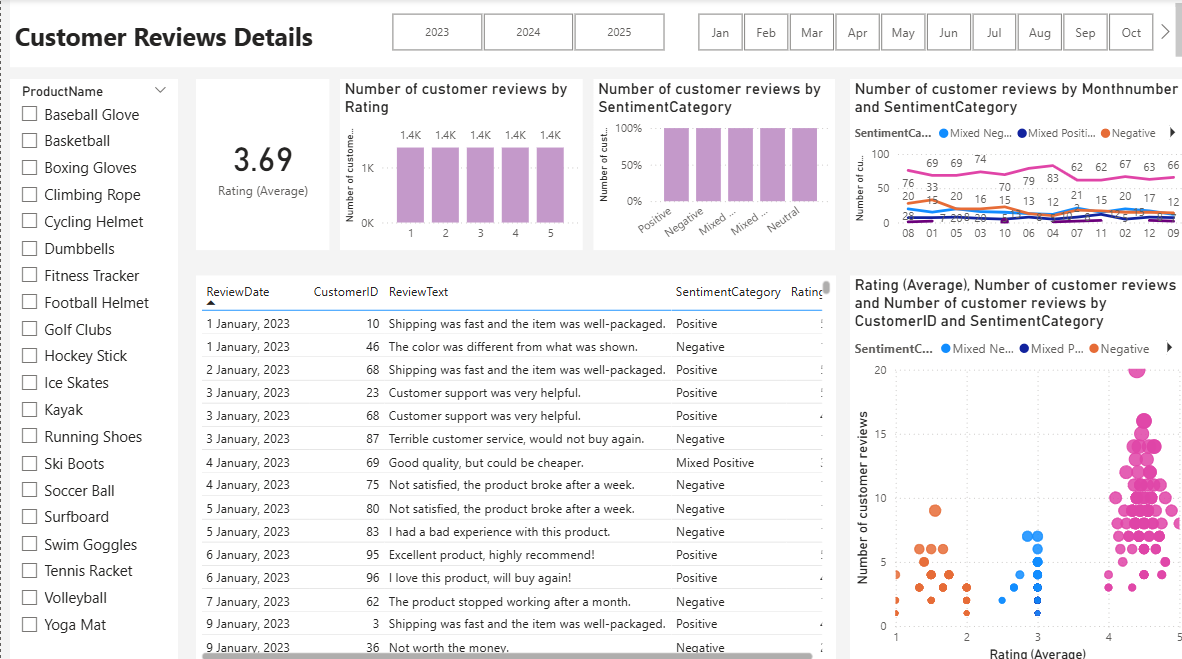

This screenshot's page, from the dashboard's own definition file:
{"tool":"powerbi","page":{"name":"Customer Reviews Details","canvas":[1280,720],"ordinal":3},"visuals":[{"type":"textbox","box":[9.7,0,1271.1,74.5],"z":0},{"type":"slicer","fields":{"Values":["dim_products.ProductName"]},"box":[9.7,87.4,181.4,633.1],"z":1000},{"type":"slicer","fields":{"Values":["Calendar.Year"]},"box":[396.7,9.7,343.3,53.4],"z":2000},{"type":"slicer","fields":{"Values":["Calendar.MonthNameShort"]},"box":[727,9.7,540.8,53.4],"z":3000},{"type":"card","fields":{"Values":["_Calculations.Rating (Average)"]},"box":[210.5,87.4,144.1,184.6],"z":4000},{"type":"columnChart","fields":{"Category":["fact_customer_reviews.Rating"],"Y":["_Calculations.Number of customer reviews"]},"box":[365.9,87.4,262.3,184.6],"z":5000},{"type":"hundredPercentStackedColumnChart","fields":{"Category":["fact_customer_reviews_with_sentiment.SentimentCategory"],"Y":["_Calculations.Number of customer reviews"]},"box":[639.6,87.4,260.7,184.6],"z":6000},{"type":"lineChart","fields":{"Category":["Calendar.Monthnumber"],"Y":["_Calculations.Number of customer reviews"],"Series":["fact_customer_reviews_with_sentiment.SentimentCategory"]},"box":[916.5,87.4,364.3,184.6],"z":7000},{"type":"tableEx","fields":{"Values":["fact_customer_reviews_with_sentiment.ReviewDate","fact_customer_reviews_with_sentiment.CustomerID","fact_customer_reviews_with_sentiment.ReviewText","fact_customer_reviews_with_sentiment.SentimentCategory","fact_customer_reviews_with_sentiment.Rating"]},"box":[210.5,299.6,689.8,421],"z":8000},{"type":"scatterChart","fields":{"X":["_Calculations.Rating (Average)"],"Y":["_Calculations.Number of customer reviews"],"Category":["dim_customers.CustomerID"],"Series":["fact_customer_reviews_with_sentiment.SentimentCategory"],"Size":["_Calculations.Number of customer reviews"]},"box":[916.5,299.6,364.3,421],"z":9000}]}

Visuals, with their boxes in screenshot pixels (x1, y1, x2, y2), scaled from the page's 1280x720 canvas onto the 1182x659 screenshot:
textbox: (9,0,1181,68)
slicer - dim_products.ProductName: (9,80,176,658)
slicer - Calendar.Year: (366,9,683,58)
slicer - Calendar.MonthNameShort: (671,9,1171,58)
card - _Calculations.Rating (Average): (194,80,327,249)
columnChart - fact_customer_reviews.Rating x _Calculations.Number of customer reviews: (338,80,580,249)
hundredPercentStackedColumnChart - fact_customer_reviews_with_sentiment.SentimentCategory x _Calculations.Number of customer reviews: (591,80,831,249)
lineChart - Calendar.Monthnumber x _Calculations.Number of customer reviews: (846,80,1181,249)
tableEx - fact_customer_reviews_with_sentiment.ReviewDate x fact_customer_reviews_with_sentiment.CustomerID: (194,274,831,658)
scatterChart - _Calculations.Rating (Average) x _Calculations.Number of customer reviews: (846,274,1181,658)
